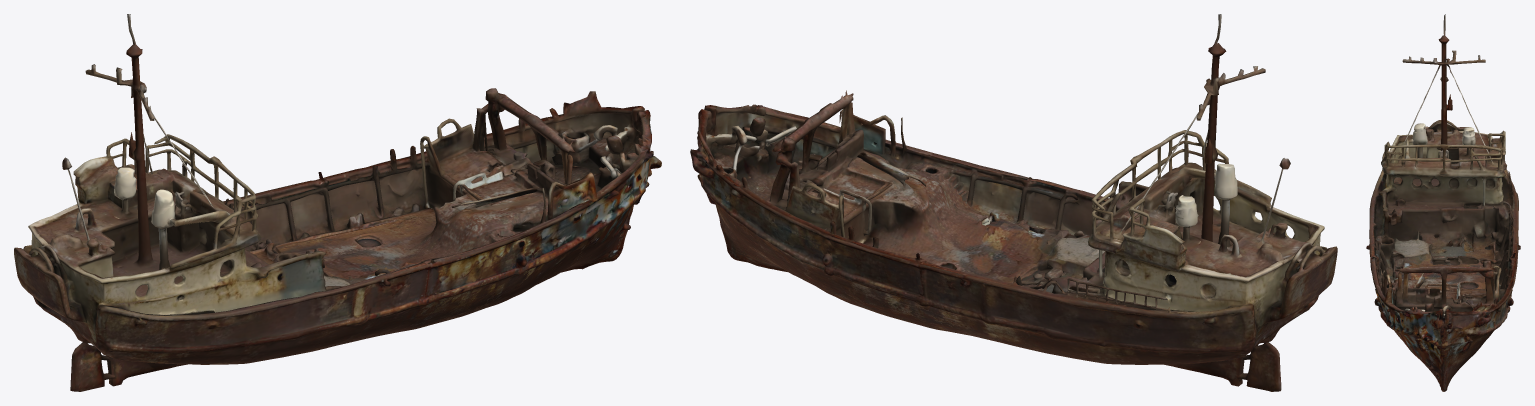
File: Schiffswrack.glb
3 views of the same model, side by side, from view 1: azimuth 30°, elevation 25°; view 2: azimuth 150°, elevation 25°; view 3: azimuth 270°, elevation 25° (orthographic). The views are drawn at different scales.
Parts seen in each view (by area): view 1: tripo_node_71fe8d86-185d-4a49-af7d-9768bd1d1108; view 2: tripo_node_71fe8d86-185d-4a49-af7d-9768bd1d1108; view 3: tripo_node_71fe8d86-185d-4a49-af7d-9768bd1d1108.
Part boxes in pixels (left/top/right/bottom): tripo_node_71fe8d86-185d-4a49-af7d-9768bd1d1108: left=14, top=14, right=661, bottom=391; tripo_node_71fe8d86-185d-4a49-af7d-9768bd1d1108: left=690, top=14, right=1337, bottom=391; tripo_node_71fe8d86-185d-4a49-af7d-9768bd1d1108: left=1366, top=14, right=1520, bottom=391.
Size of the model in its own units: 1 by 0.5695 by 0.3459.
Materials: 1 (1 with a texture image).
